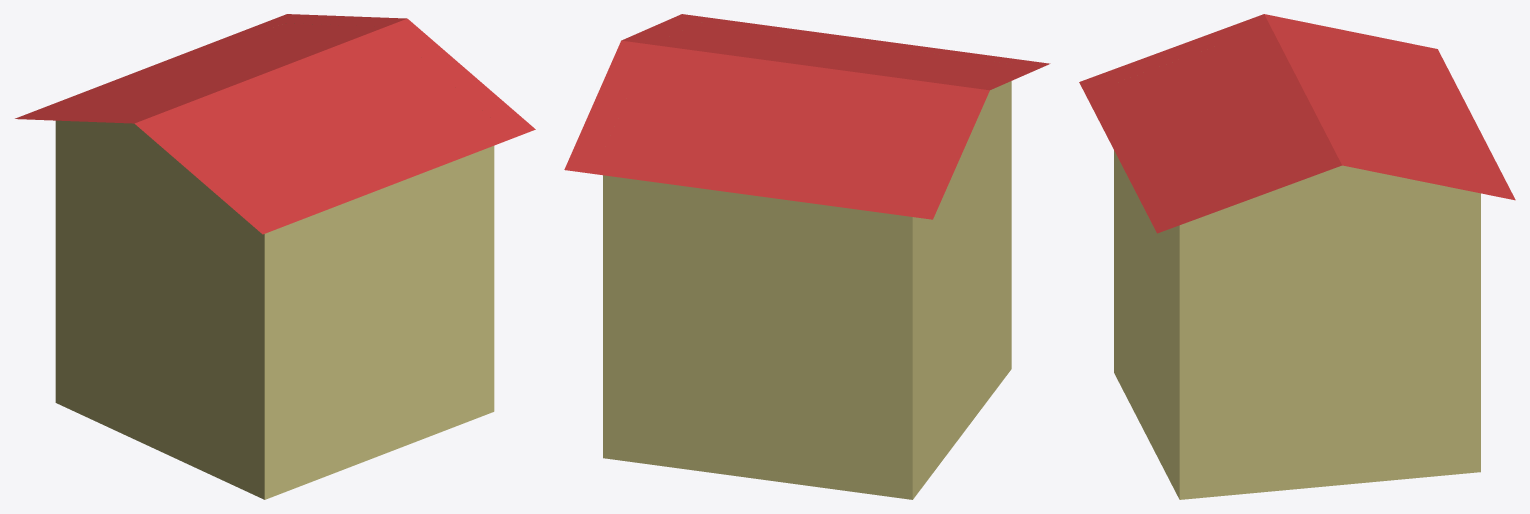
3 renders of one model, left to right at view 1: azimuth 30°, elevation 25°; view 2: azimuth 150°, elevation 25°; view 3: azimuth 270°, elevation 25°, orthographic. The views are drawn at different scales.
Size of the model in its own units: 7.44 by 7.45 by 6.25.
